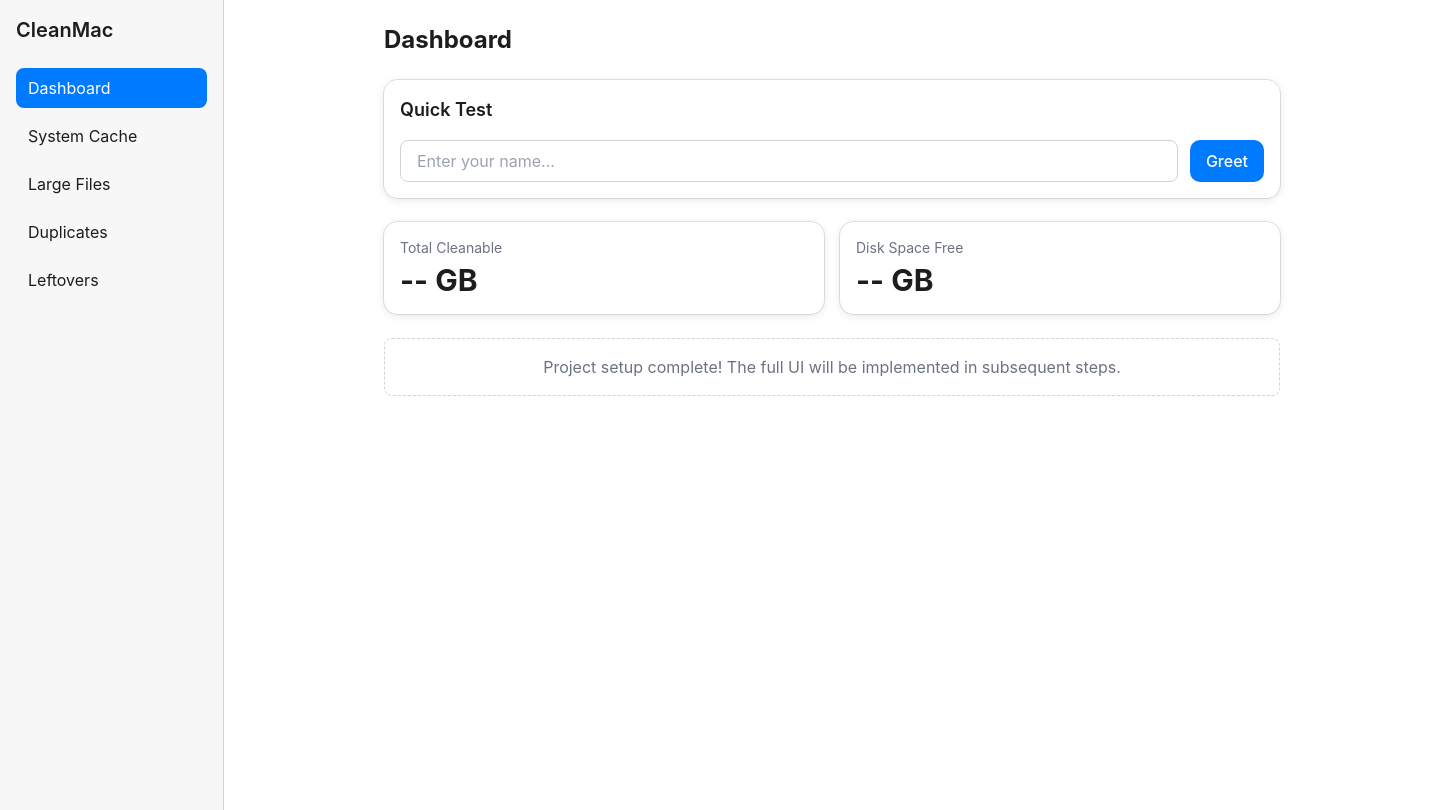
App › handles greeting user
Type "Tester" into the field with placeholder "Enter your name..." at coordinates (789, 161), box left=400, top=140, right=1178, bottom=182
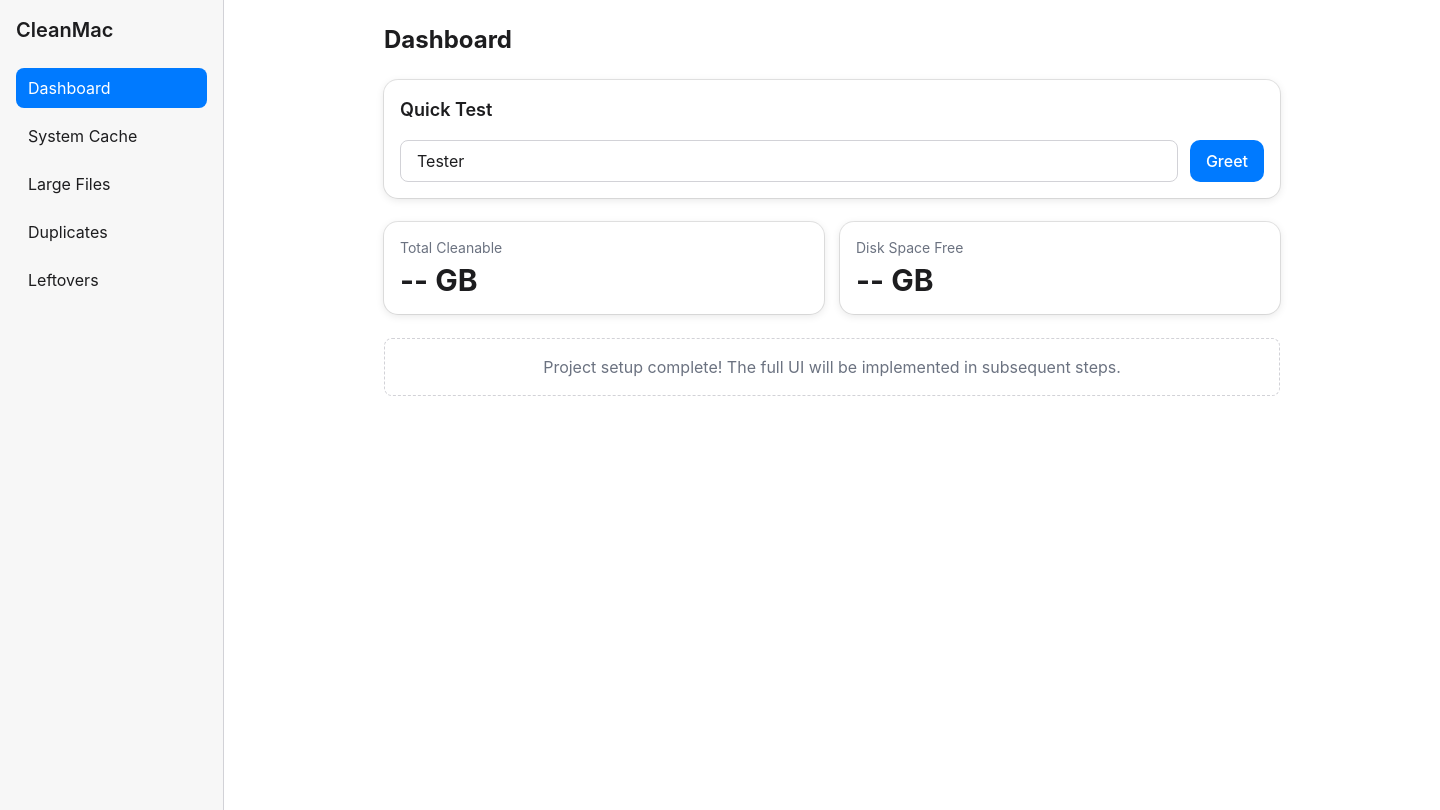
Click the button "Greet" at coordinates (1227, 161), box left=1190, top=140, right=1264, bottom=182
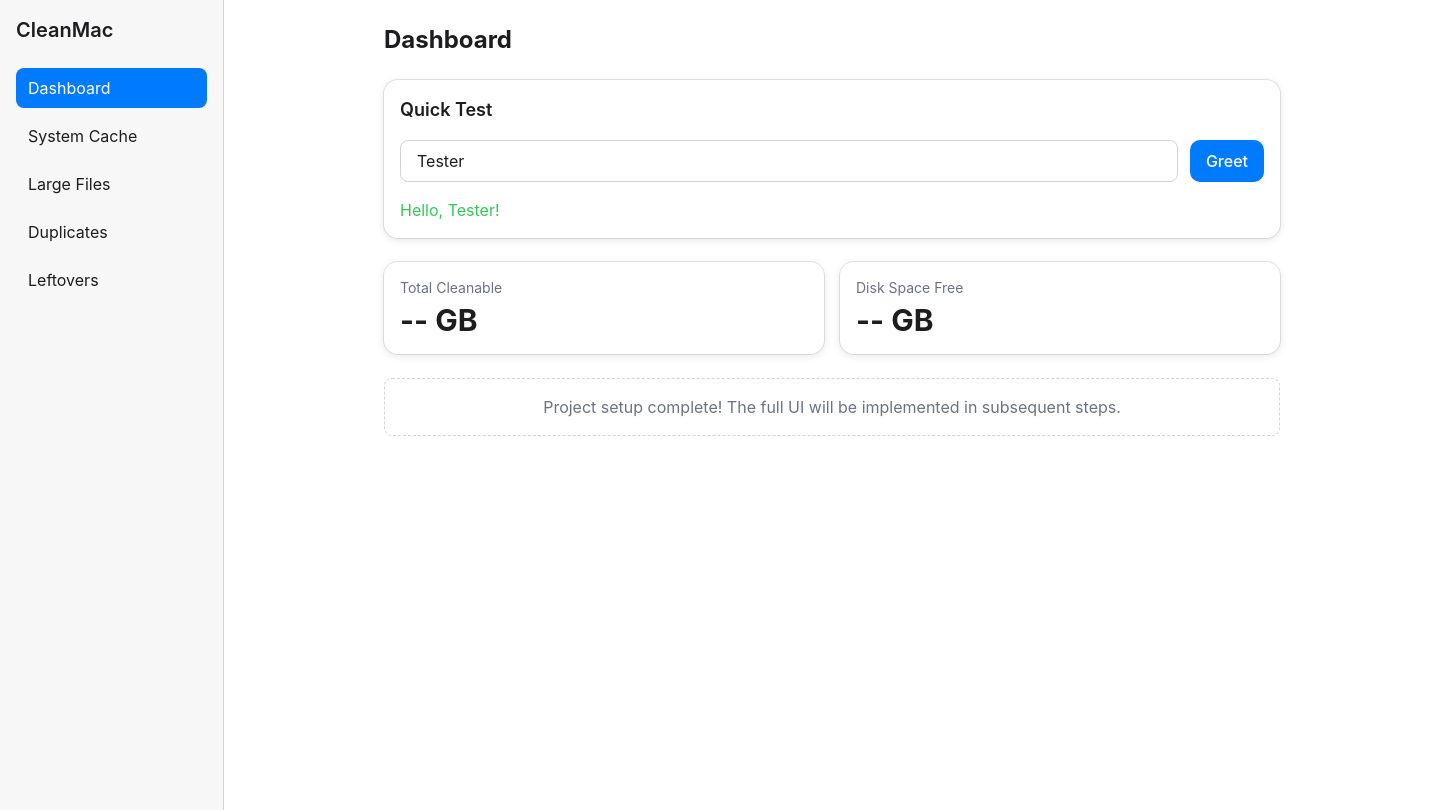
Expected: the text "Hello, Tester!" is shown, left=400, top=200, right=500, bottom=220
